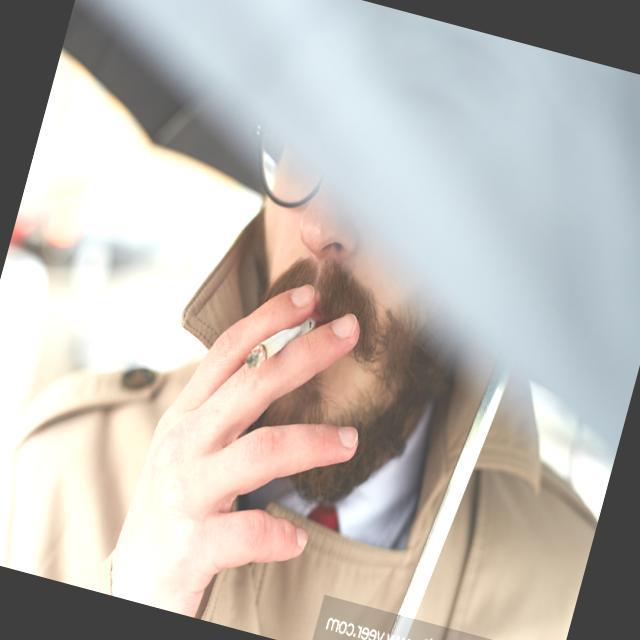smoke: (242, 298, 321, 384)
